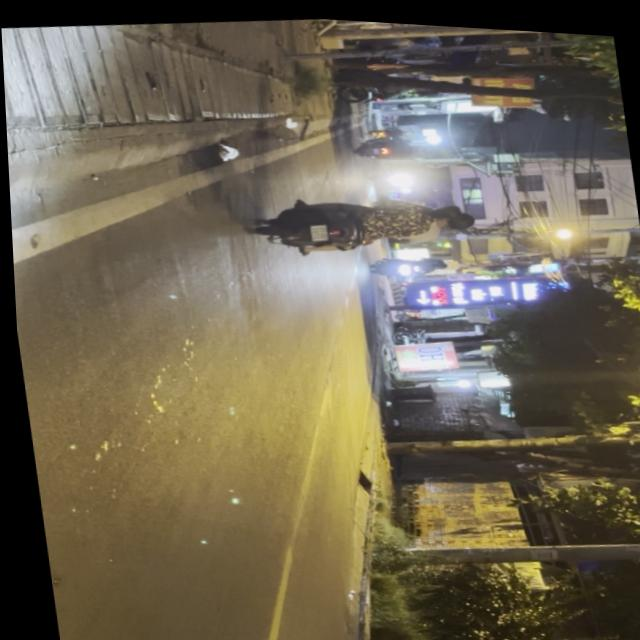licenseplate: (248, 175, 483, 266)
motorcyclist: (432, 202, 476, 229)
nohelmet: (306, 218, 326, 237)
